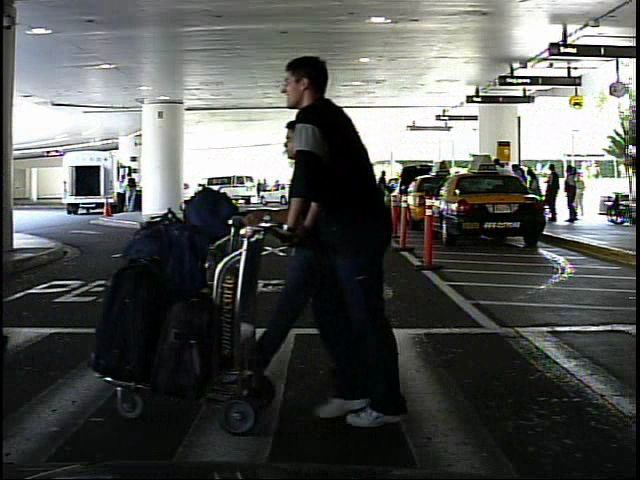person: (276, 49, 457, 428), (292, 112, 353, 385), (576, 172, 595, 218), (114, 172, 130, 214)
